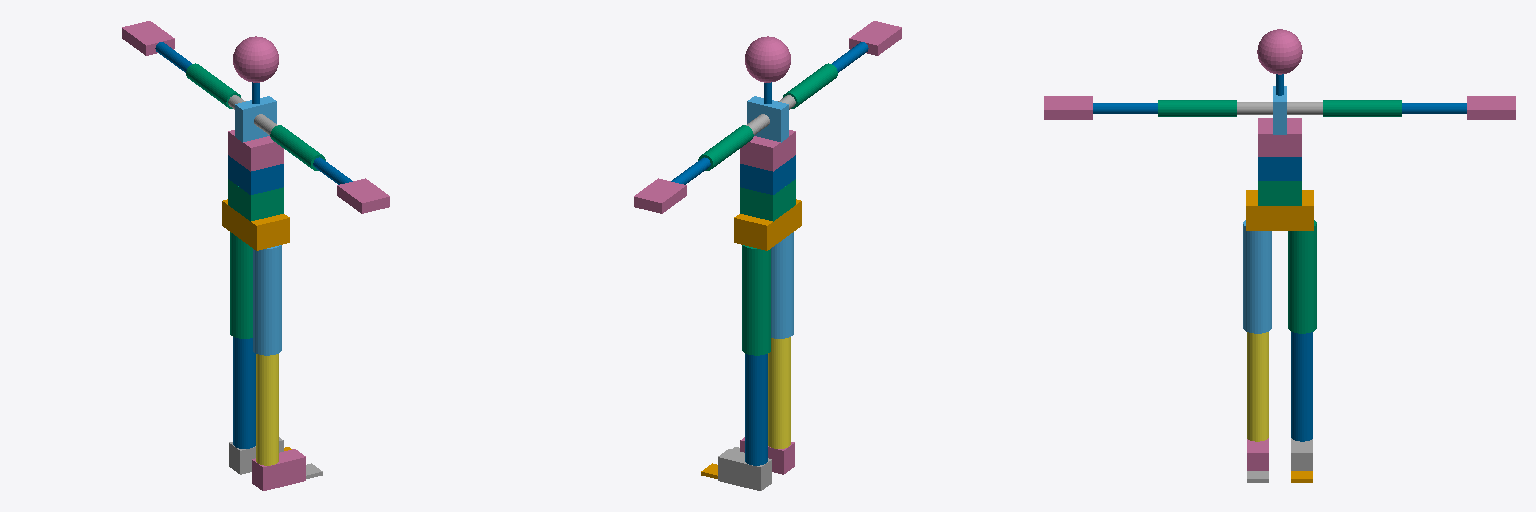
--- Facts derived from the render (not from the file) ---
Views: 3 orthographic renders of the robot side by side, from view 1: azimuth 30°, elevation 25°; view 2: azimuth 150°, elevation 25°; view 3: azimuth 270°, elevation 25°.
Model XSensStyleModel_template with 49 links and 48 joints (48 revolute), rooted at Pelvis, posed all joints at 0.
Visible links, largest first — view 1: RightUpperLeg, RightLowerLeg, LeftLowerLeg, LeftUpperLeg, Pelvis, Head, RightFoot, T12, L5, L3, T8, RightHand (+4 smaller); view 2: LeftUpperLeg, LeftLowerLeg, RightLowerLeg, RightUpperLeg, Pelvis, Head, LeftFoot, T12, L5, L3, T8, LeftHand (+4 smaller); view 3: RightUpperLeg, LeftUpperLeg, RightLowerLeg, LeftLowerLeg, Pelvis, Head, T12, RightUpperArm, LeftUpperArm, RightHand, LeftHand, L5 (+6 smaller).
Boxes of the visible links, <box> form: RightUpperLeg: <box>253,245,281,355</box>; RightLowerLeg: <box>256,354,278,465</box>; LeftLowerLeg: <box>233,337,255,448</box>; LeftUpperLeg: <box>230,232,252,338</box>; Pelvis: <box>222,199,289,250</box>; Head: <box>233,36,278,82</box>; RightFoot: <box>252,449,305,490</box>; T12: <box>228,130,283,171</box>; L5: <box>228,179,283,221</box>; L3: <box>228,155,283,194</box>; T8: <box>235,96,276,142</box>; RightHand: <box>337,178,389,213</box>; LeftUpperLeg: <box>742,245,770,355</box>; LeftLowerLeg: <box>745,354,767,465</box>; RightLowerLeg: <box>768,337,790,448</box>; RightUpperLeg: <box>771,232,793,338</box>; Pelvis: <box>734,199,801,250</box>; Head: <box>745,36,790,82</box>; LeftFoot: <box>718,449,771,490</box>; T12: <box>740,130,795,171</box>; L5: <box>740,179,795,221</box>; L3: <box>740,155,795,194</box>; T8: <box>747,96,788,142</box>; LeftHand: <box>634,178,686,213</box>; RightUpperLeg: <box>1243,220,1271,333</box>; LeftUpperLeg: <box>1288,220,1316,333</box>; RightLowerLeg: <box>1247,332,1268,441</box>; LeftLowerLeg: <box>1291,332,1312,441</box>; Pelvis: <box>1246,190,1313,230</box>; Head: <box>1257,29,1302,74</box>; T12: <box>1258,118,1301,156</box>; RightUpperArm: <box>1158,100,1236,116</box>; LeftUpperArm: <box>1323,100,1401,116</box>; RightHand: <box>1044,96,1092,119</box>; LeftHand: <box>1467,96,1515,119</box>; L5: <box>1258,181,1301,205</box>.
Size in the robot's own frame: 0.2804 by 1.67 by 1.68 metres.
Geometry: primitives only (box / cylinder / sphere), no mesh files.

robot.urdf — XSensStyleModel_template:
<robot name="XSensStyleModel_template">
<!--To open this model with Gazebo replace the null masses, inertias and dimensions of the 'fake links f1 and f2'-->
    <!--LINKS-->
	<!--Link base (1)-->
	<link name="Pelvis">
        <inertial>
            <mass value="4.9652"/>
			<!--COM origin wrt pHipOrigin-->
            <origin xyz="0           0    0.048588" rpy="0 0 0" />
            <inertia ixx="0.027604" iyy="0.011288" izz="0.031195" ixy="0" ixz="0" iyz="0"/>
        </inertial>

        <visual>
			<!--box origin wrt pHipOrigin-->
            <origin xyz="0           0    0.048588" rpy="0 0 0" />
            <geometry>
                <box size="0.13409     0.23961    0.096443"/>
            </geometry>
        </visual>

        <collision>
			<!--box origin wrt pHipOrigin-->
            <origin xyz="0           0    0.048588" rpy="0 0 0" />
            <geometry>
                <box size="0.13409     0.23961    0.096443"/>
            </geometry>
        </collision>

    </link>
    <!--Chain from (2) to (7)-->
	<link name="L5_f1">
        <inertial>
            <mass value="0"/>
            <origin xyz="0 0 0" rpy="0 0 0" />
            <inertia ixx="0" iyy="0" izz="0" ixy="0" ixz="0" iyz="0"/>
        </inertial>
    </link>
	<link name="L5">
        <inertial>
            <mass value="6.3306"/>
			<!--COM origin wrt jL5S1-->
            <origin xyz="0           0    0.050322" rpy="0 0 0" />
            <inertia ixx="0.045068" iyy="0.033801" izz="0.067244" ixy="0" ixz="0" iyz="0"/>
        </inertial>

        <visual>
			<!--box origin origin wrt jL5S1-->
            <origin xyz="0           0    0.050322" rpy="0 0 0" />
            <geometry>
                <box size="0.13409     0.15843     0.10064"/>
            </geometry>
        </visual>

        <collision>
			<!--box origin origin wrt jL5S1-->
            <origin xyz="0           0    0.050322" rpy="0 0 0" />
            <geometry>
                <box size="0.13409     0.15843     0.10064"/>
            </geometry>
        </collision>
    </link>
	<link name="L3_f1">
        <inertial>
            <mass value="0"/>
            <origin xyz="0 0 0" rpy="0 0 0" />
            <inertia ixx="0" iyy="0" izz="0" ixy="0" ixz="0" iyz="0"/>
        </inertial>
    </link>
	<link name="L3">
        <inertial>
            <mass value="6.3306"/>
			<!--COM origin wrt jL4L3-->
            <origin xyz="0           0    0.045465" rpy="0 0 0" />
            <inertia ixx="0.044087" iyy="0.032819" izz="0.067244" ixy="0" ixz="0" iyz="0"/>
        </inertial>

        <visual>
			<!--box origin origin wrt jL4L3-->
            <origin xyz="0           0    0.045465" rpy="0 0 0" />
            <geometry>
                <box size="0.13409     0.15843     0.09093"/>
            </geometry>
        </visual>

        <collision>
			<!--box origin origin wrt jL4L3-->
            <origin xyz="0           0    0.045465" rpy="0 0 0" />
            <geometry>
                <box size="0.13409     0.15843     0.09093"/>
            </geometry>
        </collision>
    </link>
	<link name="T12_f1">
        <inertial>
            <mass value="0"/>
            <origin xyz="0 0 0" rpy="0 0 0" />
            <inertia ixx="0" iyy="0" izz="0" ixy="0" ixz="0" iyz="0"/>
        </inertial>
    </link>
	<link name="T12">
        <inertial>
            <mass value="6.3306"/>
			<!--COM origin wrt jL1T12-->
            <origin xyz="0           0    0.045465" rpy="0 0 0" />
            <inertia ixx="0.044087" iyy="0.032819" izz="0.067244" ixy="0" ixz="0" iyz="0"/>
        </inertial>

        <visual>
			<!--box origin origin wrt jL1T12-->
            <origin xyz="0           0    0.045465" rpy="0 0 0" />
            <geometry>
                <box size="0.13409     0.15843     0.09093"/>
            </geometry>
        </visual>

        <collision>
			<!--box origin origin wrt jL1T12-->
            <origin xyz="0           0    0.045465" rpy="0 0 0" />
            <geometry>
                <box size="0.13409     0.15843     0.09093"/>
            </geometry>
        </collision>
    </link>
	<link name="T8_f1">
        <inertial>
            <mass value="0"/>
            <origin xyz="0 0 0" rpy="0 0 0" />
            <inertia ixx="0" iyy="0" izz="0" ixy="0" ixz="0" iyz="0"/>
        </inertial>
    </link>
	<link name="T8_f2">
        <inertial>
            <mass value="0"/>
            <origin xyz="0 0 0" rpy="0 0 0" />
            <inertia ixx="0" iyy="0" izz="0" ixy="0" ixz="0" iyz="0"/>
        </inertial>
    </link>
	<link name="T8">
        <inertial>
            <mass value="2.4826"/>
			<!--COM origin wrt jT9T8-->
            <origin xyz="0           0    0.062885" rpy="0 0 0" />
            <inertia ixx="0.003843" iyy="0.00723" izz="0.0045281" ixy="0" ixz="0" iyz="0"/>
        </inertial>

        <visual>
			<!--box origin wrt jT9T8-->
            <origin xyz="0           0    0.062885" rpy="0 0 0" />
            <geometry>
                <box size="0.13831    0.052514     0.12577"/>
            </geometry>
        </visual>

        <collision>
			<!--box origin wrt jT9T8-->
            <origin xyz="0           0    0.062885" rpy="0 0 0" />
            <geometry>
                <box size="0.13831    0.052514     0.12577"/>
            </geometry>
        </collision>

    </link>
	<link name="Neck_f1">
        <inertial>
            <mass value="0"/>
            <origin xyz="0 0 0" rpy="0 0 0" />
            <inertia ixx="0" iyy="0" izz="0" ixy="0" ixz="0" iyz="0"/>
        </inertial>
    </link>
	<link name="Neck_f2">
        <inertial>
            <mass value="0"/>
            <origin xyz="0 0 0" rpy="0 0 0" />
            <inertia ixx="0" iyy="0" izz="0" ixy="0" ixz="0" iyz="0"/>
        </inertial>
    </link>
	<link name="Neck">
        <inertial>
            <mass value="0.74478"/>
			<!--COM origin wrt jT1C7-->
            <origin xyz="0           0    0.042348" rpy="0 0 0" />
            <inertia ixx="0.00058579" iyy="0.00058579" izz="0.00028115" ixy="0" ixz="0" iyz="0"/>
        </inertial>

        <visual>
			<!--box origin wrt jT1C7-->
            <origin xyz="0           0    0.042348" rpy="0 0 0" />
            <geometry>
		<cylinder length="0.084696" radius="0.013739"/>
            </geometry>
        </visual>

        <collision>
			<!--box origin wrt jT1C7-->
            <origin xyz="0           0    0.042348" rpy="0 0 0" />
            <geometry>
                <cylinder length="0.084696" radius="0.013739"/>
            </geometry>
        </collision>
    </link>
	<link name="Head_f1">
        <inertial>
            <mass value="0"/>
            <origin xyz="0 0 0" rpy="0 0 0" />
            <inertia ixx="0" iyy="0" izz="0" ixy="0" ixz="0" iyz="0"/>
        </inertial>
    </link>
	<link name="Head">
        <inertial>
            <mass value="2.2343"/>
			<!--COM origin wrt jC1Head-->
            <origin xyz="0           0    0.080693" rpy="0 0 0" />
            <inertia ixx="0.0058193" iyy="0.0058193" izz="0.0058193" ixy="0" ixz="0" iyz="0"/>
        </inertial>

        <visual>
			<!--boc origin wrt jC1Head-->
            <origin xyz="0           0    0.080693" rpy="0 0 0" />
            <geometry>
                <sphere radius="0.080693"/>
            </geometry>
        </visual>

        <collision>
			<!--box origin wrt jC1Head-->
            <origin xyz="0           0    0.080693" rpy="0 0 0" />
            <geometry>
                <sphere radius="0.080693"/>
            </geometry>
        </collision>

    </link>
	<!--Chain from (8) to (11)-->
	<link name="RightShoulder">
        <inertial>
            <mass value="1.924"/>
			<!--COM origin wrt jRightC7Shoulder-->
            <origin xyz="0   -0.063159           0" rpy="0 0 0" />
            <inertia ixx="0.00281" iyy="0.00050334" izz="0.00281" ixy="0" ixz="0" iyz="0"/>
        </inertial>

        <visual>
			<!--box origin wrt jRightC7Shoulder. RPY rotated of pi/2.-->
            <origin xyz="0   -0.063159           0" rpy="1.5708 0 0" />
            <geometry>
                <cylinder length="0.12632" radius="0.022874"/>
            </geometry>
        </visual>

        <collision>
			<!--box origin wrt jRightC7Shoulder. RPY rotated of pi/2.-->
            <origin xyz="0   -0.063159           0" rpy="1.5708 0 0" />
            <geometry>
                <cylinder length="0.12632" radius="0.022874"/>
            </geometry>
        </collision>

    </link>
	<link name="RightUpperArm_f1">
        <inertial>
            <mass value="0"/>
            <origin xyz="0 0 0" rpy="0 0 0" />
            <inertia ixx="0" iyy="0" izz="0" ixy="0" ixz="0" iyz="0"/>
        </inertial>
    </link>
	<link name="RightUpperArm_f2">
        <inertial>
            <mass value="0"/>
            <origin xyz="0 0 0" rpy="0 0 0" />
            <inertia ixx="0" iyy="0" izz="0" ixy="0" ixz="0" iyz="0"/>
        </inertial>
    </link>
    <link name="RightUpperArm">
        <inertial>
            <mass value="1.8619"/>
			<!--COM origin wrt jRightShoulder-->
            <origin xyz="0    -0.14042           0" rpy="0 0 0" />
            <inertia ixx="0.01267" iyy="0.01267" izz="0.00086624" ixy="0" ixz="0" iyz="0"/>
        </inertial>

        <visual>
			<!--box origin wrt jRightShoulder. RPY rotated of pi/2.-->
            <origin xyz="0    -0.14042           0" rpy="1.5708 0 0" />
            <geometry>
                <cylinder length="0.28083" radius="0.030503"/>
            </geometry>
        </visual>

        <collision>
			<!--box origin wrt jRightShoulder. RPY rotated of pi/2.-->
            <origin xyz="0    -0.14042           0" rpy="1.5708 0 0" />
            <geometry>
                <cylinder length="0.28083" radius="0.030503"/>
            </geometry>
        </collision>

    </link>
	<link name="RightForeArm_f1">
        <inertial>
            <mass value="0"/>
            <origin xyz="0 0 0" rpy="0 0 0" />
            <inertia ixx="0" iyy="0" izz="0" ixy="0" ixz="0" iyz="0"/>
        </inertial>
    </link>
	<link name="RightForeArm">
        <inertial>
            <mass value="1.2413"/>
			<!--COM origin wrt jRightElbow-->
            <origin xyz="0    -0.11509           0" rpy="0 0 0" />
            <inertia ixx="0.005609" iyy="0.005609" izz="0.00025666" ixy="0" ixz="0" iyz="0"/>
        </inertial>

        <visual>
			<!--box origin wrt jRightElbow. RPY rotated of pi/2.-->
            <origin xyz="0    -0.11509           0" rpy="1.5708 0 0" />
            <geometry>
                <cylinder length="0.23018" radius="0.020336"/>
            </geometry>
        </visual>

        <collision>
			<!--box origin wrt jRightElbow. RPY rotated of pi/2.-->
            <origin xyz="0    -0.11509           0" rpy="1.5708 0 0" />
            <geometry>
                <cylinder length="0.23018" radius="0.020336"/>
            </geometry>
        </collision>

    </link>
	<link name="RightHand_f1">
        <inertial>
            <mass value="0"/>
            <origin xyz="0 0 0" rpy="0 0 0" />
            <inertia ixx="0" iyy="0" izz="0" ixy="0" ixz="0" iyz="0"/>
        </inertial>
    </link>
	<link name="RightHand">
        <inertial>
            <mass value="0.37239"/>
			<!--COM origin wrt jRightWrist-->
            <origin xyz="0   -0.086033           0" rpy="0 0 0" />
            <inertia ixx="0.00097011" iyy="0.00045968" izz="0.0013271" ixy="0" ixz="0" iyz="0"/>
        </inertial>

        <visual>
			<!--box origin wrt jRightWrist-->
            <origin xyz="0   -0.086033           0" rpy="0 0 0" />
            <geometry>
                <box size="0.11471     0.17207    0.040671"/>
            </geometry>
        </visual>

        <collision>
			<!--box origin wrt jRightWrist-->
            <origin xyz="0   -0.086033           0" rpy="0 0 0" />
            <geometry>
                <box size="0.11471     0.17207    0.040671"/>
            </geometry>
        </collision>

    </link>
	<!--Chain from (12) to (15)-->
	<link name="LeftShoulder">
        <inertial>
            <mass value="1.924"/>
			<!--COM origin wrt jLeftC7Shoulder-->
            <origin xyz="0    0.063159           0" rpy="0 0 0" />
            <inertia ixx="0.00281" iyy="0.00050334" izz="0.00281" ixy="0" ixz="0" iyz="0"/>
        </inertial>

        <visual>
			<!--box origin wrt jLeftC7Shoulder. RPY rotated of pi/2.-->
            <origin xyz="0    0.063159           0" rpy="1.5708 0 0" />
            <geometry>
                <cylinder length="0.12632" radius="0.022874"/>
            </geometry>
        </visual>

        <collision>
			<!--box origin wrt jLeftC7Shoulder. RPY rotated of pi/2.-->
            <origin xyz="0    0.063159           0" rpy="1.5708 0 0" />
            <geometry>
                <cylinder length="0.12632" radius="0.022874"/>
            </geometry>
        </collision>

    </link>
	<link name="LeftUpperArm_f1">
        <inertial>
            <mass value="0"/>
            <origin xyz="0 0 0" rpy="0 0 0" />
            <inertia ixx="0" iyy="0" izz="0" ixy="0" ixz="0" iyz="0"/>
        </inertial>
    </link>
	<link name="LeftUpperArm_f2">
        <inertial>
            <mass value="0"/>
            <origin xyz="0 0 0" rpy="0 0 0" />
            <inertia ixx="0" iyy="0" izz="0" ixy="0" ixz="0" iyz="0"/>
        </inertial>
    </link>
	<link name="LeftUpperArm">
        <inertial>
            <mass value="1.8619"/>
			<!--COM origin wrt jLeftShoulder-->
            <origin xyz="0     0.14042           0" rpy="0 0 0" />
            <inertia ixx="0.01267" iyy="0.01267" izz="0.00086624" ixy="0" ixz="0" iyz="0"/>
        </inertial>

        <visual>
			<!--box origin wrt jLeftShoulder. RPY rotated of pi/2.-->
            <origin xyz="0     0.14042           0" rpy="1.5708 0 0" />
            <geometry>
                <cylinder length="0.28083" radius="0.030503"/>
            </geometry>
        </visual>

        <collision>
			<!--box origin wrt jLeftShoulder. RPY rotated of pi/2.-->
            <origin xyz="0     0.14042           0" rpy="1.5708 0 0" />
            <geometry>
                <cylinder length="0.28083" radius="0.030503"/>
            </geometry>
        </collision>

    </link>
	<link name="LeftForeArm_f1">
        <inertial>
            <mass value="0"/>
            <origin xyz="0 0 0" rpy="0 0 0" />
            <inertia ixx="0" iyy="0" izz="0" ixy="0" ixz="0" iyz="0"/>
        </inertial>
    </link>
	<link name="LeftForeArm">
        <inertial>
            <mass value="1.2413"/>
			<!--COM origin wrt jLeftElbow-->
            <origin xyz="0     0.11509           0" rpy="0 0 0" />
            <inertia ixx="0.005609" iyy="0.005609" izz="0.00025666" ixy="0" ixz="0" iyz="0"/>
        </inertial>

        <visual>
			<!--box origin wrt jLeftElbow. RPY rotated of pi/2.-->
            <origin xyz="0     0.11509           0" rpy="1.5708 0 0" />
            <geometry>
                <cylinder length="0.23018" radius="0.020336"/>
            </geometry>
        </visual>

        <collision>
			<!--box origin wrt jLeftElbow. RPY rotated of pi/2.-->
            <origin xyz="0     0.11509           0" rpy="1.5708 0 0" />
            <geometry>
                <cylinder length="0.23018" radius="0.020336"/>
            </geometry>
        </collision>

    </link>
	<link name="LeftHand_f1">
        <inertial>
            <mass value="0"/>
            <origin xyz="0 0 0" rpy="0 0 0" />
            <inertia ixx="0" iyy="0" izz="0" ixy="0" ixz="0" iyz="0"/>
        </inertial>
    </link>
	<link name="LeftHand">
        <inertial>
            <mass value="0.37239"/>
			<!--COM origin wrt jLeftWrist-->
            <origin xyz="0    0.086033           0" rpy="0 0 0" />
            <inertia ixx="0.00097011" iyy="0.00045968" izz="0.0013271" ixy="0" ixz="0" iyz="0"/>
        </inertial>

        <visual>
			<!--COM origin wrt jLeftWrist-->
            <origin xyz="0    0.086033           0" rpy="0 0 0" />
            <geometry>
                <box size="0.11471     0.17207    0.040671"/>
            </geometry>
        </visual>

        <collision>
			<!--COM origin wrt jLeftWrist-->
            <origin xyz="0    0.086033           0" rpy="0 0 0" />
            <geometry>
                <box size="0.11471     0.17207    0.040671"/>
            </geometry>
        </collision>

    </link>
	<!--Chain from (16) to (19)-->
	<link name="RightUpperLeg_f1">
        <inertial>
            <mass value="0"/>
            <origin xyz="0 0 0" rpy="0 0 0" />
            <inertia ixx="0" iyy="0" izz="0" ixy="0" ixz="0" iyz="0"/>
        </inertial>
    </link>
	<link name="RightUpperLeg_f2">
        <inertial>
            <mass value="0"/>
            <origin xyz="0 0 0" rpy="0 0 0" />
            <inertia ixx="0" iyy="0" izz="0" ixy="0" ixz="0" iyz="0"/>
        </inertial>
    </link>
    <link name="RightUpperLeg">
        <inertial>
            <mass value="7.7581"/>
			<!--COM origin wrt jRightHip-->
            <origin xyz="0           0    -0.20463" rpy="0 0 0" />
            <inertia ixx="0.11345" iyy="0.11345" izz="0.010326" ixy="0" ixz="0" iyz="0"/>
        </inertial>

        <visual>
			<!--box origin wrt jRightHip-->
            <origin xyz="0           0    -0.20463" rpy="0 0 0" />
            <geometry>
                <cylinder length="0.40926" radius="0.051595"/>
            </geometry>
        </visual>

        <collision>
			<!--box origin wrt jRightHip-->
            <origin xyz="0           0    -0.20463" rpy="0 0 0" />
            <geometry>
                <cylinder length="0.40926" radius="0.051595"/>
            </geometry>
        </collision>

    </link>
	<link name="RightLowerLeg_f1">
        <inertial>
            <mass value="0"/>
            <origin xyz="0 0 0" rpy="0 0 0" />
            <inertia ixx="0" iyy="0" izz="0" ixy="0" ixz="0" iyz="0"/>
        </inertial>
    </link>
    <link name="RightLowerLeg">
        <inertial>
            <mass value="2.2654"/>
			<!--COM origin wrt jRightKnee-->
            <origin xyz="0           0    -0.21406" rpy="0 0 0" />
            <inertia ixx="0.035474" iyy="0.035474" izz="0.0017488" ixy="0" ixz="0" iyz="0"/>
        </inertial>

        <visual>
			<!--box origin wrt jRightKnee-->
            <origin xyz="0           0    -0.21406" rpy="0 0 0" />
            <geometry>
                <cylinder length="0.42811" radius="0.039293"/>
            </geometry>
        </visual>

        <collision>
			<!--box origin wrt jRightKnee-->
            <origin xyz="0           0    -0.21406" rpy="0 0 0" />
            <geometry>
                <cylinder length="0.42811" radius="0.039293"/>
            </geometry>
        </collision>

    </link>
	<link name="RightFoot_f1">
        <inertial>
            <mass value="0"/>
            <origin xyz="0 0 0" rpy="0 0 0" />
            <inertia ixx="0" iyy="0" izz="0" ixy="0" ixz="0" iyz="0"/>
        </inertial>
    </link>
	<link name="RightFoot_f2">
        <inertial>
            <mass value="0"/>
            <origin xyz="0 0 0" rpy="0 0 0" />
            <inertia ixx="0" iyy="0" izz="0" ixy="0" ixz="0" iyz="0"/>
        </inertial>
    </link>
    <link name="RightFoot">
        <inertial>
            <mass value="0.80684"/>
			<!--COM origin wrt jRightAnkle-->
            <origin xyz="0.047341           0   -0.045923" rpy="0 0 0" />
            <inertia ixx="0.00098245" iyy="0.0025999" izz="0.0024479" ixy="0" ixz="0" iyz="0"/>
        </inertial>

        <visual>
			<!--box origin wrt jRightAnkle-->
	    	<origin xyz="0.047341           0   -0.045923" rpy="0 0 0" />
            <geometry>
                <box size="0.17387    0.078587    0.091847"/>
            </geometry>
        </visual>

        <collision>
			<!--box origin wrt jRightAnkle-->
		    <origin xyz="0.047341           0   -0.045923" rpy="0 0 0" />
	            <geometry>
	                <box size="0.17387    0.078587    0.091847"/>
	            </geometry>
        </collision>

    </link>
    <link name="RightToe">
        <inertial>
            <mass value="0.093097"/>
			<!--COM origin wrt jRightBallFoot-->
            <origin xyz="0.033062           0           0" rpy="0 0 0" />
            <inertia ixx="4.9587e-05" iyy="3.5594e-05" izz="8.1834e-05" ixy="0" ixz="0" iyz="0"/>
        </inertial>

        <visual>
			<!--box origin wrt jRightBallFoot-->
            <origin xyz="0.033062           0           0" rpy="0 0 0" />
            <geometry>
                <box size="0.066123    0.078587    0.014689"/>
            </geometry>
        </visual>

        <collision>
			<!--box origin wrt jRightBallFoot-->
            <origin xyz="0.033062           0           0" rpy="0 0 0" />
            <geometry>
                <box size="0.066123    0.078587    0.014689"/>
            </geometry>
        </collision>
    </link>
	<!--Chain from (20) to (23)-->
	<link name="LeftUpperLeg_f1">
        <inertial>
            <mass value="0"/>
            <origin xyz="0 0 0" rpy="0 0 0" />
            <inertia ixx="0" iyy="0" izz="0" ixy="0" ixz="0" iyz="0"/>
        </inertial>
    </link>
	<link name="LeftUpperLeg_f2">
        <inertial>
            <mass value="0"/>
            <origin xyz="0 0 0" rpy="0 0 0" />
            <inertia ixx="0" iyy="0" izz="0" ixy="0" ixz="0" iyz="0"/>
        </inertial>
    </link>
    <link name="LeftUpperLeg">
        <inertial>
            <mass value="7.7581"/>
			<!--COM origin wrt jLeftHip-->
            <origin xyz="0           0    -0.20463" rpy="0 0 0" />
            <inertia ixx="0.11345" iyy="0.11345" izz="0.010326" ixy="0" ixz="0" iyz="0"/>
        </inertial>

        <visual>
			<!--box origin wrt jLeftHip-->
            <origin xyz="0           0    -0.20463" rpy="0 0 0" />
            <geometry>
                <cylinder length="0.40926" radius="-0.051595"/>
            </geometry>
        </visual>

        <collision>
			<!--box origin wrt jLeftHip-->
            <origin xyz="0           0    -0.20463" rpy="0 0 0" />
            <geometry>
                <cylinder length="0.40926" radius="-0.051595"/>
            </geometry>
        </collision>

    </link>
	<link name="LeftLowerLeg_f1">
        <inertial>
            <mass value="0"/>
            <origin xyz="0 0 0" rpy="0 0 0" />
            <inertia ixx="0" iyy="0" izz="0" ixy="0" ixz="0" iyz="0"/>
        </inertial>
    </link>
	<link name="LeftLowerLeg">
        <inertial>
            <mass value="2.2654"/>
			<!--COM origin wrt jLeftKnee-->
            <origin xyz="0           0    -0.21406" rpy="0 0 0" />
            <inertia ixx="0.035474" iyy="0.035474" izz="0.0017488" ixy="0" ixz="0" iyz="0"/>
        </inertial>

        <visual>
			<!--box origin wrt jLeftKnee-->
            <origin xyz="0           0    -0.21406" rpy="0 0 0" />
            <geometry>
		<cylinder length="0.42811" radius="0.039293"/>
            </geometry>
        </visual>

        <collision>
			<!--box origin wrt jLeftKnee-->
            <origin xyz="0           0    -0.21406" rpy="0 0 0" />
            <geometry>
		<cylinder length="0.42811" radius="0.039293"/>
            </geometry>
        </collision>

    </link>
	<link name="LeftFoot_f1">
        <inertial>
            <mass value="0"/>
            <origin xyz="0 0 0" rpy="0 0 0" />
            <inertia ixx="0" iyy="0" izz="0" ixy="0" ixz="0" iyz="0"/>
        </inertial>
    </link>
	<link name="LeftFoot_f2">
        <inertial>
            <mass value="0"/>
            <origin xyz="0 0 0" rpy="0 0 0" />
            <inertia ixx="0" iyy="0" izz="0" ixy="0" ixz="0" iyz="0"/>
        </inertial>
    </link>
    <link name="LeftFoot">
        <inertial>
            <mass value="0.80684"/>
			<!--COM origin wrt jLeftAnkle-->
            <origin xyz="0.047341           0   -0.045923" rpy="0 0 0" />
            <inertia ixx="0.00098245" iyy="0.0025999" izz="0.0024479" ixy="0" ixz="0" iyz="0"/>
        </inertial>

        <visual>
			<!--box origin wrt jLeftAnkle-->
	   	 	<origin xyz="0.047341           0   -0.045923" rpy="0 0 0" />
            <geometry>
                <box size="0.17387    0.078587    0.091847"/>
            </geometry>
        </visual>

        <collision>
			<!--box origin wrt jLeftAnkle-->
		    <origin xyz="0.047341           0   -0.045923" rpy="0 0 0" />
	            <geometry>
	                <box size="0.17387    0.078587    0.091847"/>
	            </geometry>
        </collision>

    </link>
	<link name="LeftToe">
        <inertial>
            <mass value="0.093097"/>
			<!--COM origin wrt jLeftBallFoot-->
            <origin xyz="0.033062           0           0" rpy="0 0 0" />
            <inertia ixx="4.9587e-05" iyy="3.5594e-05" izz="8.1834e-05" ixy="0" ixz="0" iyz="0"/>
        </inertial>

        <visual>
			<!--box origin wrt jLeftBallFoot-->
            <origin xyz="0.033062           0           0" rpy="0 0 0" />
            <geometry>
                <box size="0.066123    0.078587    0.014689"/>
            </geometry>
        </visual>

        <collision>
			<!--box origin wrt jLeftBallFoot-->
            <origin xyz="0.033062           0           0" rpy="0 0 0" />
            <geometry>
                <box size="0.066123    0.078587    0.014689"/>
            </geometry>
        </collision>
    </link>


	<!--JOINTS-->
	<!--Chain from (2) to (7)-->
	<joint name="jL5S1_rotx" type="revolute">
        <origin xyz="-7.5e-05           0     0.09681" rpy="0 0 0"/>
        <parent link="Pelvis"/>
        <child link="L5_f1"/>
        <dynamics damping="0.1" friction="0.0"/>
        <limit effort="30" velocity="1.0" lower="-0.610865" upper="0.610865" />
        <axis xyz="1 0 0" />
    </joint>
	<joint name="jL5S1_roty" type="revolute">
        <origin xyz="0 0 0" rpy="0 0 0"/>
        <parent link="L5_f1"/>
        <child link="L5"/>
        <dynamics damping="0.1" friction="0.0"/>
        <limit effort="30" velocity="1.0" lower="-0.523599" upper="1.309" />
        <axis xyz="0 1 0" />
    </joint>
	<joint name="jL4L3_rotx" type="revolute">
        <origin xyz="0.000136           0     0.10064" rpy="0 0 0"/>
        <parent link="L5"/>
        <child link="L3_f1"/>
        <dynamics damping="0.1" friction="0.0"/>
        <limit effort="30" velocity="1.0" lower="-0.610865" upper="0.610865" />
        <axis xyz="1 0 0" />
    </joint>
	<joint name="jL4L3_roty" type="revolute">
        <origin xyz="0 0 0" rpy="0 0 0"/>
        <parent link="L3_f1"/>
        <child link="L3"/>
        <dynamics damping="0.1" friction="0.0"/>
        <limit effort="30" velocity="1.0" lower="-0.523599" upper="1.309" />
        <axis xyz="0 1 0" />
    </joint>
	<joint name="jL1T12_rotx" type="revolute">
        <origin xyz="0           0     0.09093" rpy="0 0 0"/>
        <parent link="L3"/>
        <child link="T12_f1"/>
        <dynamics damping="0.1" friction="0.0"/>
        <limit effort="30" velocity="1.0" lower="-0.610865" upper="0.610865" />
        <axis xyz="1 0 0" />
    </joint>
	<joint name="jL1T12_roty" type="revolute">
        <origin xyz="0 0 0" rpy="0 0 0"/>
        <parent link="T12_f1"/>
        <child link="T12"/>
        <dynamics damping="0.1" friction="0.0"/>
        <limit effort="30" velocity="1.0" lower="-0.523599" upper="1.309" />
        <axis xyz="0 1 0" />
    </joint>
	<joint name="jT9T8_rotx" type="revolute">
        <origin xyz="0           0     0.09093" rpy="0 0 0"/>
        <parent link="T12"/>
        <child link="T8_f1"/>
        <dynamics damping="0.1" friction="0.0"/>
        <limit effort="30" velocity="1.0" lower="-0.349066" upper="0.349066" />
        <axis xyz="1 0 0" />
    </joint>
	<joint name="jT9T8_roty" type="revolute">
        <origin xyz="0 0 0" rpy="0 0 0"/>
        <parent link="T8_f1"/>
        <child link="T8_f2"/>
        <dynamics damping="0.1" friction="0.0"/>
        <limit effort="30" velocity="1.0" lower="-0.261799" upper="0.698132" />
        <axis xyz="0 1 0" />
    </joint>
    <joint name="jT9T8_rotz" type="revolute">
        <origin xyz="0 0 0" rpy="0 0 0"/>
        <parent link="T8_f2"/>
        <child link="T8"/>
        <dynamics damping="0.1" friction="0.0"/>
        <limit effort="30" velocity="1.0" lower="-0.610865" upper="0.610865" />
        <axis xyz="0 0 1" />
    </joint>
	<joint name="jT1C7_rotx" type="revolute">
        <origin xyz="0           0     0.12577" rpy="0 0 0"/>
        <parent link="T8"/>
        <child link="Neck_f1"/>
        <dynamics damping="0.1" friction="0.0"/>
        <limit effort="30" velocity="1.0" lower="-0.610865" upper="0.610865" />
        <axis xyz="1 0 0" />
    </joint>
	<joint name="jT1C7_roty" type="revolute">
        <origin xyz="0 0 0" rpy="0 0 0"/>
        <parent link="Neck_f1"/>
        <child link="Neck_f2"/>
        <dynamics damping="0.1" friction="0.0"/>
        <limit effort="30" velocity="1.0" lower="-0.959931" upper="1.5708" />
        <axis xyz="0 1 0" />
    </joint>
    <joint name="jT1C7_rotz" type="revolute">
        <origin xyz="0 0 0" rpy="0 0 0"/>
        <parent link="Neck_f2"/>
        <child link="Neck"/>
        <dynamics damping="0.1" friction="0.0"/>
        <limit effort="30" velocity="1.0" lower="-1.22173" upper="1.22173" />
        <axis xyz="0 0 1" />
    </joint>
	<joint name="jC1Head_rotx" type="revolute">
        <origin xyz="0.000323           0    0.084696" rpy="0 0 0"/>
        <parent link="Neck"/>
        <child link="Head_f1"/>
        <dynamics damping="0.1" friction="0.0"/>
        <limit effort="30" velocity="1.0" lower="-0.610865" upper="0.610865" />
        <axis xyz="1 0 0" />
    </joint>
	<joint name="jC1Head_roty" type="revolute">
        <origin xyz="0 0 0" rpy="0 0 0"/>
        <parent link="Head_f1"/>
        <child link="Head"/>
        <dynamics damping="0.1" friction="0.0"/>
        <limit effort="30" velocity="1.0" lower="-0.436332" upper="0.174533" />
        <axis xyz="0 1 0" />
    </joint>
	<!--Chain from (8) to (11)-->
	<joint name="jRightC7Shoulder_rotx" type="revolute">
        <origin xyz="0   -0.026257    0.070261" rpy="0 0 0"/>
        <parent link="T8"/>
        <child link="RightShoulder"/>
        <dynamics damping="0.1" friction="0.0"/>
        <limit effort="30" velocity="1.0" lower="-0.0872665" upper="0.785398" />
        <axis xyz="1 0 0" />
    </joint>
	<joint name="jRightShoulder_rotx" type="revolute">
        <origin xyz="0    -0.12632           0" rpy="0 0 0"/>
        <parent link="RightShoulder"/>
        <child link="RightUpperArm_f1"/>
        <dynamics damping="0.1" friction="0.0"/>
        <limit effort="30" velocity="1.0" lower="-2.35619" upper="1.5708" />
        <axis xyz="1 0 0" />
    </joint>
	<joint name="jRightShoulder_roty" type="revolute">
        <origin xyz="0 0 0" rpy="0 0 0"/>
        <parent link="RightUpperArm_f1"/>
        <child link="RightUpperArm_f2"/>
        <dynamics damping="0.1" friction="0.0"/>
        <limit effort="30" velocity="1.0" lower="-1.5708" upper="1.5708" />
        <axis xyz="0 1 0" />
    </joint>
    <joint name="jRightShoulder_rotz" type="revolute">
        <origin xyz="0 0 0" rpy="0 0 0"/>
        <parent link="RightUpperArm_f2"/>
        <child link="RightUpperArm"/>
        <dynamics damping="0.1" friction="0.0"/>
        <limit effort="30" velocity="1.0" lower="-0.785398" upper="3.14159" />
        <axis xyz="0 0 1" />
    </joint>
	<joint name="jRightElbow_roty" type="revolute">
        <origin xyz="0    -0.28083           0" rpy="0 0 0"/>
        <parent link="RightUpperArm"/>
        <child link="RightForeArm_f1"/>
        <dynamics damping="0.1" friction="0.0"/>
        <limit effort="30" velocity="1.0" lower="-1.5708" upper="1.48353" />
        <axis xyz="0 1 0" />
    </joint>
	<joint name="jRightElbow_rotz" type="revolute">
        <origin xyz="0 0 0" rpy="0 0 0"/>
        <parent link="RightForeArm_f1"/>
        <child link="RightForeArm"/>
        <dynamics damping="0.1" friction="0.0"/>
        <limit effort="30" velocity="1.0" lower="0" upper="2.53073" />
        <axis xyz="0 0 1" />
    </joint>
	<joint name="jRightWrist_rotx" type="revolute">
        <origin xyz="3e-05    -0.23018           0" rpy="0 0 0"/>
        <parent link="RightForeArm"/>
        <child link="RightHand_f1"/>
        <dynamics damping="0.1" friction="0.0"/>
        <limit effort="30" velocity="1.0" lower="-0.872665" upper="1.0472" />
        <axis xyz="1 0 0" />
    </joint>
	<joint name="jRightWrist_rotz" type="revolute">
        <origin xyz="0 0 0" rpy="0 0 0"/>
        <parent link="RightHand_f1"/>
        <child link="RightHand"/>
        <dynamics damping="0.1" friction="0.0"/>
        <limit effort="30" velocity="1.0" lower="-0.523599" upper="0.349066" />
        <axis xyz="0 0 1" />
    </joint>
	<!--Chain from (12) to (15)-->
	<joint name="jLeftC7Shoulder_rotx" type="revolute">
        <origin xyz="0    0.026257    0.070261" rpy="0 0 0"/>
        <parent link="T8"/>
        <child link="LeftShoulder"/>
        <dynamics damping="0.1" friction="0.0"/>
        <limit effort="30" velocity="1.0" lower="-0.0872665" upper="0.785398" />
        <axis xyz="1 0 0" />
    </joint>
	<joint name="jLeftShoulder_rotx" type="revolute">
        <origin xyz="0     0.12632           0" rpy="0 0 0"/>
        <parent link="LeftShoulder"/>
        <child link="LeftUpperArm_f1"/>
        <dynamics damping="0.1" friction="0.0"/>
        <limit effort="30" velocity="1.0" lower="-1.5708" upper="2.35619" />
        <axis xyz="1 0 0" />
    </joint>
	<joint name="jLeftShoulder_roty" type="revolute">
        <origin xyz="0 0 0" rpy="0 0 0"/>
        <parent link="LeftUpperArm_f1"/>
        <child link="LeftUpperArm_f2"/>
        <dynamics damping="0.1" friction="0.0"/>
        <limit effort="30" velocity="1.0" lower="-1.5708" upper="1.5708" />
        <axis xyz="0 1 0" />
    </joint>
    <joint name="jLeftShoulder_rotz" type="revolute">
        <origin xyz="0 0 0" rpy="0 0 0"/>
        <parent link="LeftUpperArm_f2"/>
        <child link="LeftUpperArm"/>
        <dynamics damping="0.1" friction="0.0"/>
        <limit effort="30" velocity="1.0" lower="-3.14159" upper="0.785398" />
        <axis xyz="0 0 1" />
    </joint>
    <joint name="jLeftElbow_roty" type="revolute">
        <origin xyz="0     0.28083           0" rpy="0 0 0"/>
        <parent link="LeftUpperArm"/>
        <child link="LeftForeArm_f1"/>
        <dynamics damping="0.1" friction="0.0"/>
        <limit effort="30" velocity="1.0" lower="-1.5708" upper="1.48353" />
        <axis xyz="0 1 0" />
    </joint>
    <joint name="jLeftElbow_rotz" type="revolute">
        <origin xyz="0 0 0" rpy="0 0 0"/>
        <parent link="LeftForeArm_f1"/>
        <child link="LeftForeArm"/>
        <dynamics damping="0.1" friction="0.0"/>
        <limit effort="30" velocity="1.0" lower="-2.53073" upper="0" />
        <axis xyz="0 0 1" />
    </joint>
	<joint name="jLeftWrist_rotx" type="revolute">
        <origin xyz="3e-05     0.23018           0" rpy="0 0 0"/>
        <parent link="LeftForeArm"/>
        <child link="LeftHand_f1"/>
        <dynamics damping="0.1" friction="0.0"/>
        <limit effort="30" velocity="1.0" lower="-1.0472" upper="0.872665" />
        <axis xyz="1 0 0" />
    </joint>
	<joint name="jLeftWrist_rotz" type="revolute">
        <origin xyz="0 0 0" rpy="0 0 0"/>
        <parent link="LeftHand_f1"/>
        <child link="LeftHand"/>
        <dynamics damping="0.1" friction="0.0"/>
        <limit effort="30" velocity="1.0" lower="-0.349066" upper="0.523599" />
        <axis xyz="0 0 1" />
    </joint>
	<!--Chain from (16) to (19)-->
	<joint name="jRightHip_rotx" type="revolute">
        <origin xyz="3.7e-05   -0.079215    0.000367" rpy="0 0 0"/>
        <parent link="Pelvis"/>
        <child link="RightUpperLeg_f1"/>
        <dynamics damping="0.1" friction="0.0"/>
        <limit effort="30" velocity="1.0" lower="-0.523599" upper="0.785398" />
        <axis xyz="1 0 0" />
    </joint>
	<joint name="jRightHip_roty" type="revolute">
        <origin xyz="0 0 0" rpy="0 0 0"/>
        <parent link="RightUpperLeg_f1"/>
        <child link="RightUpperLeg_f2"/>
        <dynamics damping="0.1" friction="0.0"/>
        <limit effort="30" velocity="1.0" lower="-0.261799" upper="2.0944" />
        <axis xyz="0 1 0" />
    </joint>
    <joint name="jRightHip_rotz" type="revolute">
        <origin xyz="0 0 0" rpy="0 0 0"/>
        <parent link="RightUpperLeg_f2"/>
        <child link="RightUpperLeg"/>
        <dynamics damping="0.1" friction="0.0"/>
        <limit effort="30" velocity="1.0" lower="-0.785398" upper="0.785398" />
        <axis xyz="0 0 1" />
    </joint>
	<joint name="jRightKnee_roty" type="revolute">
        <origin xyz="-2e-06           0    -0.40926" rpy="0 0 0"/>
        <parent link="RightUpperLeg"/>
        <child link="RightLowerLeg_f1"/>
        <dynamics damping="0.1" friction="0.0"/>
        <limit effort="30" velocity="1.0" lower="0" upper="2.35619" />
        <axis xyz="0 1 0" />
    </joint>
	<joint name="jRightKnee_rotz" type="revolute">
        <origin xyz="0 0 0" rpy="0 0 0"/>
        <parent link="RightLowerLeg_f1"/>
        <child link="RightLowerLeg"/>
        <dynamics damping="0.1" friction="0.0"/>
        <limit effort="30" velocity="1.0" lower="-0.698132" upper="0.523599" />
        <axis xyz="0 0 1" />
    </joint>
	<joint name="jRightAnkle_rotx" type="revolute">
        <origin xyz="-0.000373           0    -0.42811" rpy="0 0 0"/>
        <parent link="RightLowerLeg"/>
        <child link="RightFoot_f1"/>
        <dynamics damping="0.1" friction="0.0"/>
        <limit effort="30" velocity="1.0" lower="-0.610865" upper="0.785398" />
        <axis xyz="1 0 0" />
    </joint>
	<joint name="jRightAnkle_roty" type="revolute">
        <origin xyz="0 0 0" rpy="0 0 0"/>
        <parent link="RightFoot_f1"/>
        <child link="RightFoot_f2"/>
        <dynamics damping="0.1" friction="0.0"/>
        <limit effort="30" velocity="1.0" lower="-0.523599" upper="0.872665" />
        <axis xyz="0 1 0" />
    </joint>
    <joint name="jRightAnkle_rotz" type="revolute">
        <origin xyz="0 0 0" rpy="0 0 0"/>
        <parent link="RightFoot_f2"/>
        <child link="RightFoot"/>
        <dynamics damping="0.1" friction="0.0"/>
        <limit effort="30" velocity="1.0" lower="-0.436332" upper="0.872665" />
        <axis xyz="0 0 1" />
    </joint>
	<joint name="jRightBallFoot_roty" type="revolute">
        <origin xyz="0.13428           0   -0.078689" rpy="0 0 0"/>
        <parent link="RightFoot"/>
        <child link="RightToe"/>
        <dynamics damping="0.1" friction="0.0"/>
        <limit effort="30" velocity="1.0" lower="-0.174533" upper="1.5708" />
        <axis xyz="0 1 0" />
    </joint>
	<!--Chain from (20) to (23)-->
	<joint name="jLeftHip_rotx" type="revolute">
        <origin xyz="3.7e-05    0.079215    0.000367" rpy="0 0 0"/>
        <parent link="Pelvis"/>
        <child link="LeftUpperLeg_f1"/>
        <dynamics damping="0.1" friction="0.0"/>
        <limit effort="30" velocity="1.0" lower="-0.523599" upper="0.785398" />
        <axis xyz="1 0 0" />
    </joint>
	<joint name="jLeftHip_roty" type="revolute">
        <origin xyz="0 0 0" rpy="0 0 0"/>
        <parent link="LeftUpperLeg_f1"/>
        <child link="LeftUpperLeg_f2"/>
        <dynamics damping="0.1" friction="0.0"/>
        <limit effort="30" velocity="1.0" lower="-0.261799" upper="2.0944" />
        <axis xyz="0 1 0" />
    </joint>
    <joint name="jLeftHip_rotz" type="revolute">
        <origin xyz="0 0 0" rpy="0 0 0"/>
        <parent link="LeftUpperLeg_f2"/>
        <child link="LeftUpperLeg"/>
        <dynamics damping="0.1" friction="0.0"/>
        <limit effort="30" velocity="1.0" lower="-0.785398" upper="0.785398" />
        <axis xyz="0 0 1" />
    </joint>
	<joint name="jLeftKnee_roty" type="revolute">
        <origin xyz="-2e-06           0    -0.40926" rpy="0 0 0"/>
        <parent link="LeftUpperLeg"/>
        <child link="LeftLowerLeg_f1"/>
        <dynamics damping="0.1" friction="0.0"/>
        <limit effort="30" velocity="1.0" lower="0" upper="2.35619" />
        <axis xyz="0 1 0" />
    </joint>
    <joint name="jLeftKnee_rotz" type="revolute">
        <origin xyz="0 0 0" rpy="0 0 0"/>
        <parent link="LeftLowerLeg_f1"/>
        <child link="LeftLowerLeg"/>
        <dynamics damping="0.1" friction="0.0"/>
        <limit effort="30" velocity="1.0" lower="-0.523599" upper="0.698132" />
        <axis xyz="0 0 1" />
    </joint>
	<joint name="jLeftAnkle_rotx" type="revolute">
        <origin xyz="-0.000373           0    -0.42811" rpy="0 0 0"/>
        <parent link="LeftLowerLeg"/>
        <child link="LeftFoot_f1"/>
        <dynamics damping="0.1" friction="0.0"/>
        <limit effort="30" velocity="1.0" lower="-0.610865" upper="0.785398" />
        <axis xyz="1 0 0" />
    </joint>
	<joint name="jLeftAnkle_roty" type="revolute">
        <origin xyz="0 0 0" rpy="0 0 0"/>
        <parent link="LeftFoot_f1"/>
        <child link="LeftFoot_f2"/>
        <dynamics damping="0.1" friction="0.0"/>
        <limit effort="30" velocity="1.0" lower="-0.523599" upper="0.872665" />
        <axis xyz="0 1 0" />
    </joint>
    <joint name="jLeftAnkle_rotz" type="revolute">
        <origin xyz="0 0 0" rpy="0 0 0"/>
        <parent link="LeftFoot_f2"/>
        <child link="LeftFoot"/>
        <dynamics damping="0.1" friction="0.0"/>
        <limit effort="30" velocity="1.0" lower="-0.872665" upper="0.436332" />
        <axis xyz="0 0 1" />
    </joint>
	<joint name="jLeftBallFoot_roty" type="revolute">
        <origin xyz="0.13428           0   -0.078689" rpy="0 0 0"/>
        <parent link="LeftFoot"/>
        <child link="LeftToe"/>
        <dynamics damping="0.1" friction="0.0"/>
        <limit effort="30" velocity="1.0" lower="-0.174533" upper="1.5708" />
        <axis xyz="0 1 0" />
    </joint>

	<!-- Sensor  1-->
<sensor name="Pelvis_gyro" type="gyroscope">
<parent link="Pelvis"/>
<origin xyz="-0.055818  0.00024489    0.093816" rpy="0.11968      1.0446     -3.0045"/>
</sensor>
<sensor name="Pelvis_accelerometer" type="accelerometer">
<parent link="Pelvis"/>
<origin xyz="-0.055818  0.00024489    0.093816" rpy="0.11968      1.0446     -3.0045"/>
</sensor>
<!-- Sensor  2-->
<sensor name="T8_gyro" type="gyroscope">
<parent link="T8"/>
<origin xyz="0.12906 -1.9997e-05    0.071107" rpy="-0.13395      1.0496    -0.17832"/>
</sensor>
<sensor name="T8_accelerometer" type="accelerometer">
<parent link="T8"/>
<origin xyz="0.12906 -1.9997e-05    0.071107" rpy="-0.13395      1.0496    -0.17832"/>
</sensor>
<!-- Sensor  3-->
<sensor name="Head_gyro" type="gyroscope">
<parent link="Head"/>
<origin xyz="-0.064576 -0.00030216    0.071089" rpy="2.564    -0.09408     -1.5942"/>
</sensor>
<sensor name="Head_accelerometer" type="accelerometer">
<parent link="Head"/>
<origin xyz="-0.064576 -0.00030216    0.071089" rpy="2.564    -0.09408     -1.5942"/>
</sensor>
<!-- Sensor  4-->
<sensor name="RightShoulder_gyro" type="gyroscope">
<parent link="RightShoulder"/>
<origin xyz="-0.018314    -0.04573   -0.054844" rpy="0.86405    -0.14355    -0.96613"/>
</sensor>
<sensor name="RightShoulder_accelerometer" type="accelerometer">
<parent link="RightShoulder"/>
<origin xyz="-0.018314    -0.04573   -0.054844" rpy="0.86405    -0.14355    -0.96613"/>
</sensor>
<!-- Sensor  5-->
<sensor name="RightUpperArm_gyro" type="gyroscope">
<parent link="RightUpperArm"/>
<origin xyz="-0.018768    -0.09382    0.018813" rpy="-0.35498   0.0065541     -1.4919"/>
</sensor>
<sensor name="RightUpperArm_accelerometer" type="accelerometer">
<parent link="RightUpperArm"/>
<origin xyz="-0.018768    -0.09382    0.018813" rpy="-0.35498   0.0065541     -1.4919"/>
</sensor>
<!-- Sensor  6-->
<sensor name="RightForeArm_gyro" type="gyroscope">
<parent link="RightForeArm"/>
<origin xyz="0.0017022     -0.1885     0.01879" rpy="-0.8672   -0.036495     -1.4228"/>
</sensor>
<sensor name="RightForeArm_accelerometer" type="accelerometer">
<parent link="RightForeArm"/>
<origin xyz="0.0017022     -0.1885     0.01879" rpy="-0.8672   -0.036495     -1.4228"/>
</sensor>
<!-- Sensor  7-->
<sensor name="RightHand_gyro" type="gyroscope">
<parent link="RightHand"/>
<origin xyz="0.00021029   -0.051876    0.018779" rpy="-0.22076   -0.079589     -1.7793"/>
</sensor>
<sensor name="RightHand_accelerometer" type="accelerometer">
<parent link="RightHand"/>
<origin xyz="0.00021029   -0.051876    0.018779" rpy="-0.22076   -0.079589     -1.7793"/>
</sensor>
<!-- Sensor  8-->
<sensor name="LeftShoulder_gyro" type="gyroscope">
<parent link="LeftShoulder"/>
<origin xyz="-0.01834    0.045757   -0.054847" rpy="-0.99214    -0.17215      1.1717"/>
</sensor>
<sensor name="LeftShoulder_accelerometer" type="accelerometer">
<parent link="LeftShoulder"/>
<origin xyz="-0.01834    0.045757   -0.054847" rpy="-0.99214    -0.17215      1.1717"/>
</sensor>
<!-- Sensor  9-->
<sensor name="LeftUpperArm_gyro" type="gyroscope">
<parent link="LeftUpperArm"/>
<origin xyz="-0.018755    0.093804      0.0188" rpy="0.11731   -0.096586      1.5622"/>
</sensor>
<sensor name="LeftUpperArm_accelerometer" type="accelerometer">
<parent link="LeftUpperArm"/>
<origin xyz="-0.018755    0.093804      0.0188" rpy="0.11731   -0.096586      1.5622"/>
</sensor>
<!-- Sensor  10-->
<sensor name="LeftForeArm_gyro" type="gyroscope">
<parent link="LeftForeArm"/>
<origin xyz="0.0016809     0.18843    0.018762" rpy="0.14484   -0.057022      1.3172"/>
</sensor>
<sensor name="LeftForeArm_accelerometer" type="accelerometer">
<parent link="LeftForeArm"/>
<origin xyz="0.0016809     0.18843    0.018762" rpy="0.14484   -0.057022      1.3172"/>
</sensor>
<!-- Sensor  11-->
<sensor name="LeftHand_gyro" type="gyroscope">
<parent link="LeftHand"/>
<origin xyz="0.00020592     0.05188    0.018901" rpy="-0.32298     0.31766      2.0779"/>
</sensor>
<sensor name="LeftHand_accelerometer" type="accelerometer">
<parent link="LeftHand"/>
<origin xyz="0.00020592     0.05188    0.018901" rpy="-0.32298     0.31766      2.0779"/>
</sensor>
<!-- Sensor  12-->
<sensor name="RightUpperLeg_gyro" type="gyroscope">
<parent link="RightUpperLeg"/>
<origin xyz="0.012258   -0.041101    -0.24643" rpy="2.977      1.3208      1.7162"/>
</sensor>
<sensor name="RightUpperLeg_accelerometer" type="accelerometer">
<parent link="RightUpperLeg"/>
<origin xyz="0.012258   -0.041101    -0.24643" rpy="2.977      1.3208      1.7162"/>
</sensor>
<!-- Sensor  13-->
<sensor name="RightLowerLeg_gyro" type="gyroscope">
<parent link="RightLowerLeg"/>
<origin xyz="0.032414   0.0072127    -0.13924" rpy="-1.0656      1.4974    -0.36283"/>
</sensor>
<sensor name="RightLowerLeg_accelerometer" type="accelerometer">
<parent link="RightLowerLeg"/>
<origin xyz="0.032414   0.0072127    -0.13924" rpy="-1.0656      1.4974    -0.36283"/>
</sensor>
<!-- Sensor  14-->
<sensor name="RightFoot_gyro" type="gyroscope">
<parent link="RightFoot"/>
<origin xyz="0.076632  0.00096971   -0.010802" rpy="0.20666     0.56978   -0.085078"/>
</sensor>
<sensor name="RightFoot_accelerometer" type="accelerometer">
<parent link="RightFoot"/>
<origin xyz="0.076632  0.00096971   -0.010802" rpy="0.20666     0.56978   -0.085078"/>
</sensor>
<!-- Sensor  15-->
<sensor name="LeftUpperLeg_gyro" type="gyroscope">
<parent link="LeftUpperLeg"/>
<origin xyz="0.011575    0.042049    -0.24624" rpy="3.1278      1.3207    -0.78132"/>
</sensor>
<sensor name="LeftUpperLeg_accelerometer" type="accelerometer">
<parent link="LeftUpperLeg"/>
<origin xyz="0.011575    0.042049    -0.24624" rpy="3.1278      1.3207    -0.78132"/>
</sensor>
<!-- Sensor  16-->
<sensor name="LeftLowerLeg_gyro" type="gyroscope">
<parent link="LeftLowerLeg"/>
<origin xyz="0.032342  -0.0075107    -0.13924" rpy="0.85516      1.4657     0.87108"/>
</sensor>
<sensor name="LeftLowerLeg_accelerometer" type="accelerometer">
<parent link="LeftLowerLeg"/>
<origin xyz="0.032342  -0.0075107    -0.13924" rpy="0.85516      1.4657     0.87108"/>
</sensor>
<!-- Sensor  17-->
<sensor name="LeftFoot_gyro" type="gyroscope">
<parent link="LeftFoot"/>
<origin xyz="0.076704  -0.0012343   -0.010825" rpy="-0.13271     0.79946     0.17694"/>
</sensor>
<sensor name="LeftFoot_accelerometer" type="accelerometer">
<parent link="LeftFoot"/>
<origin xyz="0.076704  -0.0012343   -0.010825" rpy="-0.13271     0.79946     0.17694"/>
</sensor>


</robot>
